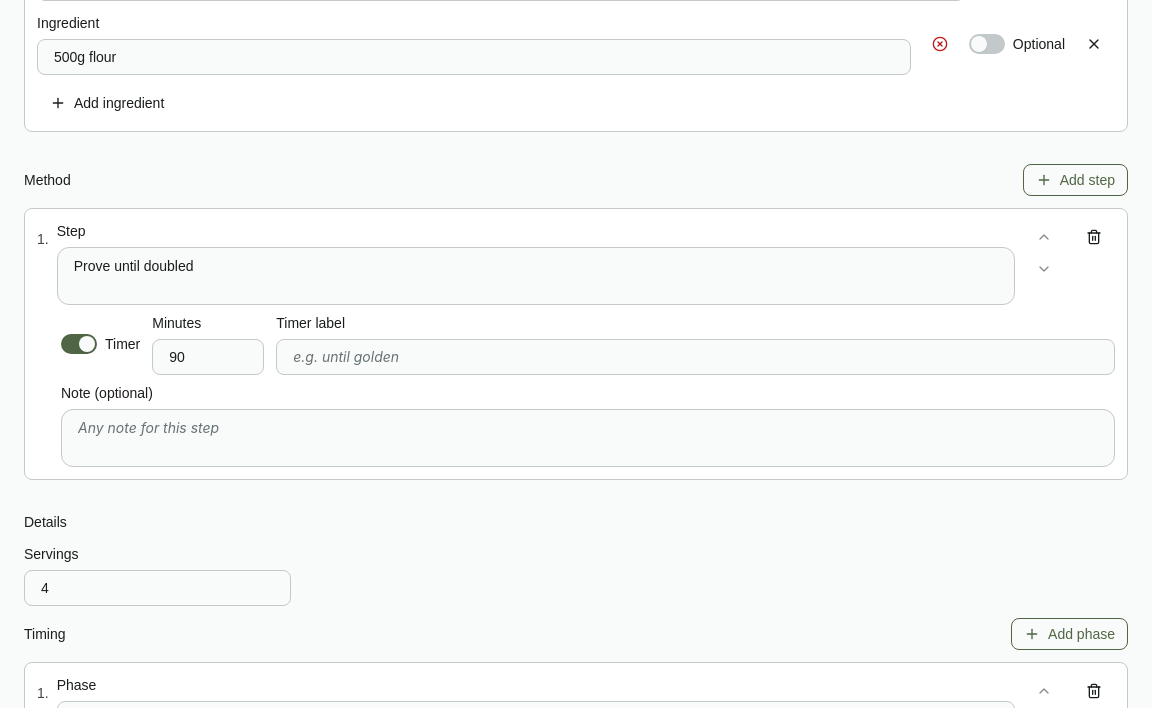
RecipeEditPage — the step timer duration box › snaps back to the stored figure on blur
The image size is (1152, 708).
(page scrolled)
Clear the field with test id "recipe-step-timer-minutes" at (260, 357), box [169,347,350,367]
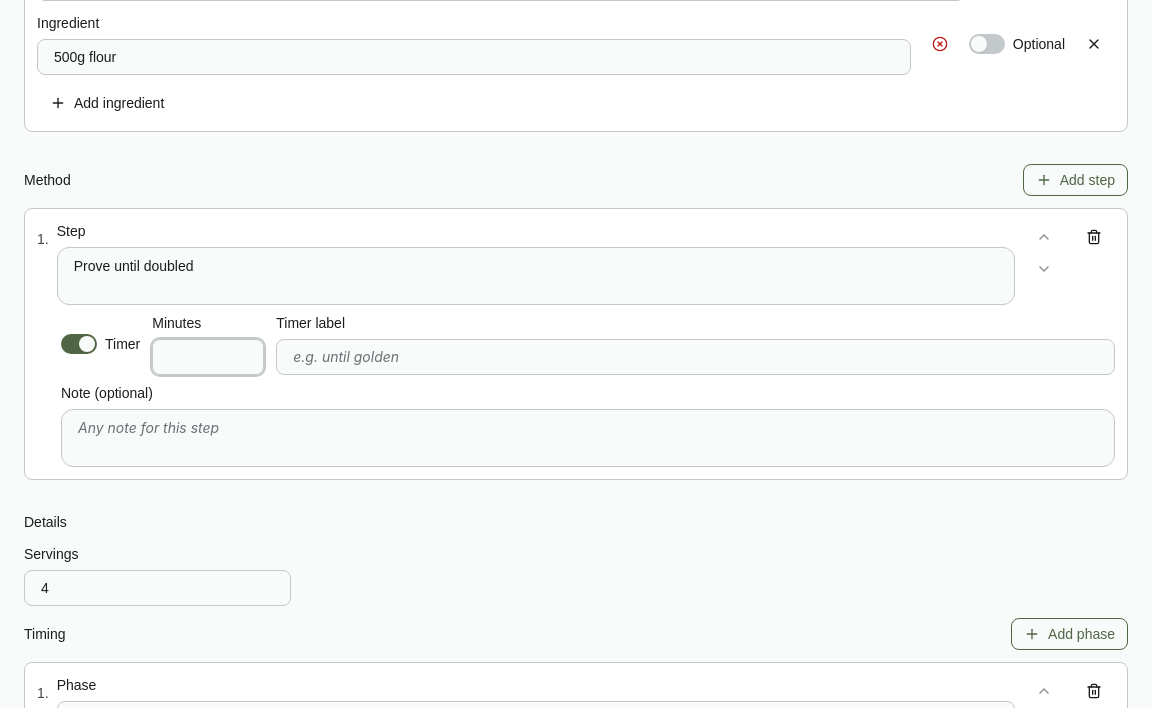
Press Tab
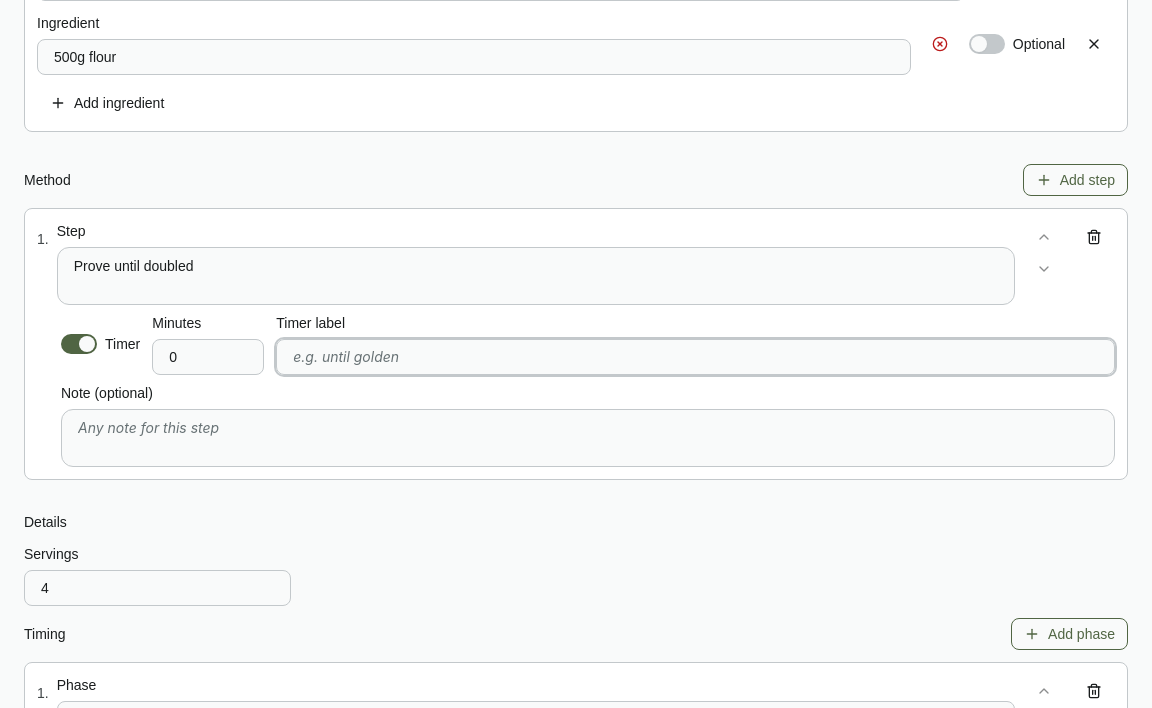
Expected: the field with test id "recipe-step-timer-minutes" holds "0", [169,347,350,367]
